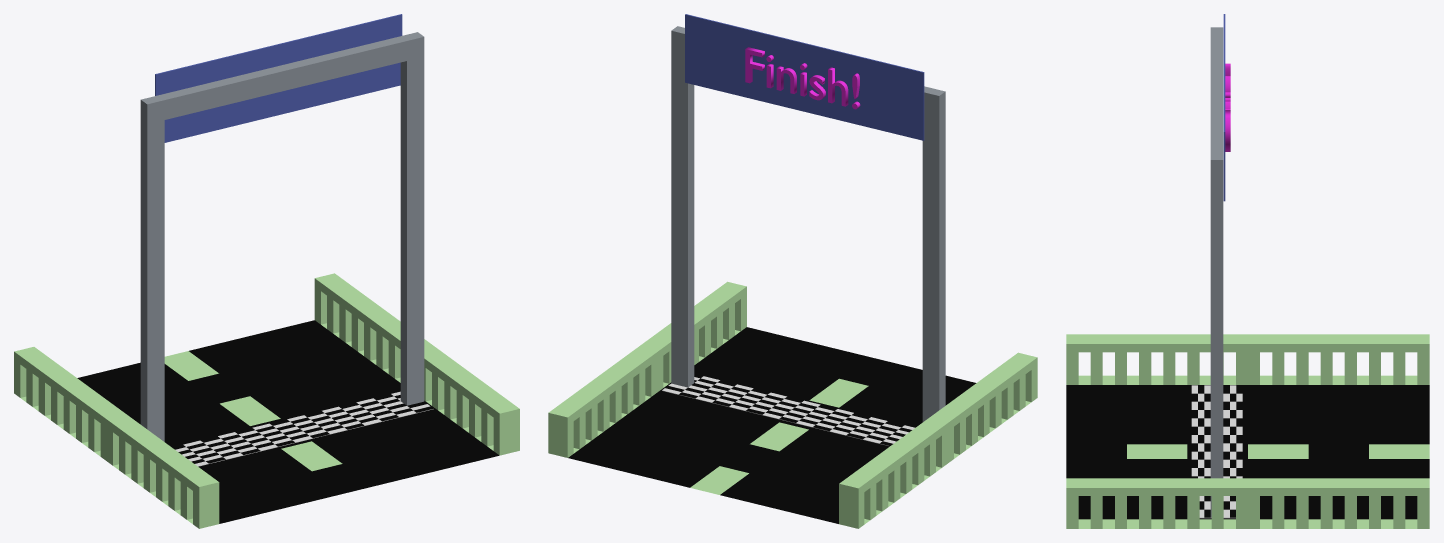
File: Sci-fi_raceTrackFinish_Beta1.fbx
The picture shows the model from 3 angles, left to right: view 1: azimuth 30°, elevation 25°; view 2: azimuth 150°, elevation 25°; view 3: azimuth 270°, elevation 25°; orthographic projection. The views are drawn at different scales.
Visible parts, largest first — view 1: Plane; view 2: Plane; view 3: Plane.
Part boxes in pixels (bbox=[...]): Plane: bbox=[14, 14, 519, 528]; Plane: bbox=[548, 14, 1037, 528]; Plane: bbox=[1066, 14, 1429, 528].
Bounding box in the file's own units: 1000 × 1152 × 1000.
